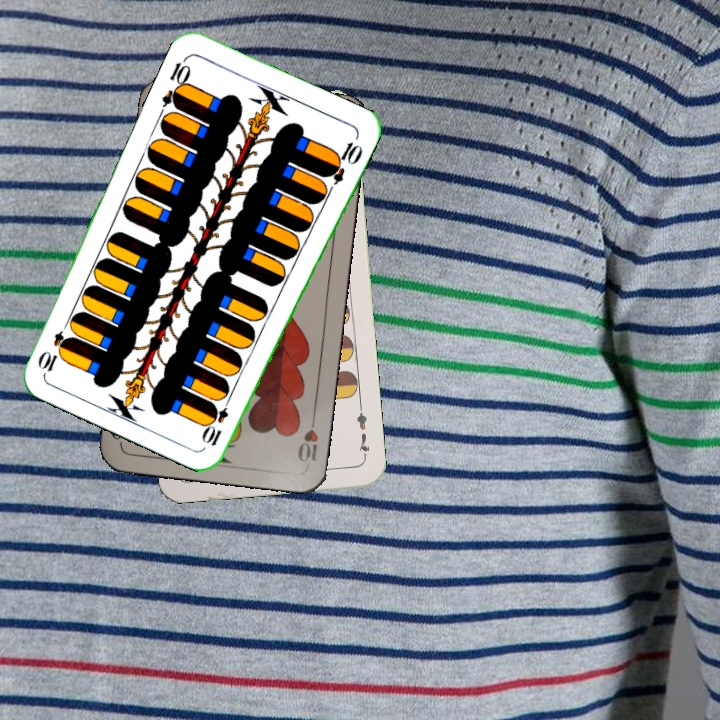E10: (157, 53, 194, 111), (200, 391, 234, 449)
E7: (353, 402, 373, 461)
H10: (293, 408, 321, 465)
